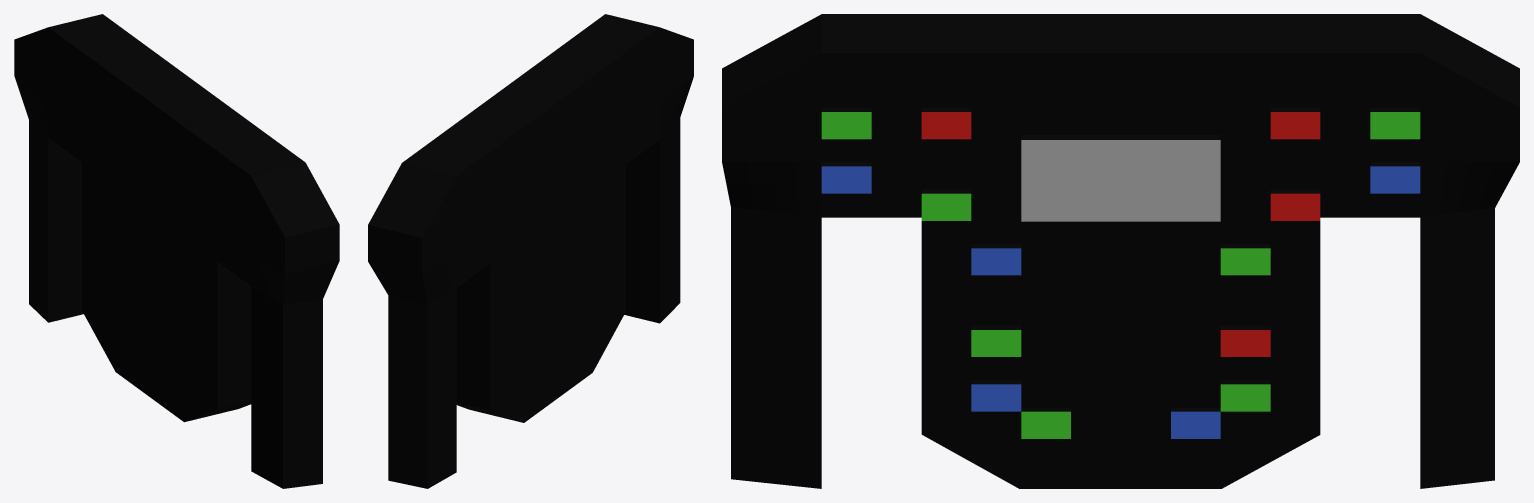
Rendered from steeringwheel.fbx.
3 views of the same model, side by side, from view 1: azimuth 30°, elevation 25°; view 2: azimuth 150°, elevation 25°; view 3: azimuth 270°, elevation 25° (orthographic). The views are drawn at different scales.
Visible parts, largest first — view 1: SteeringWheel; view 2: SteeringWheel; view 3: SteeringWheel.
Boxes of the visible parts, <box> form: SteeringWheel: <box>14,14,339,488</box>; SteeringWheel: <box>368,14,693,488</box>; SteeringWheel: <box>722,14,1519,488</box>.
Size of the model in its own units: 144 by 661 by 1097.
